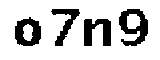7: (47, 5, 80, 51)
9: (116, 6, 150, 48)
n: (79, 16, 113, 51)
o: (10, 15, 45, 49)
